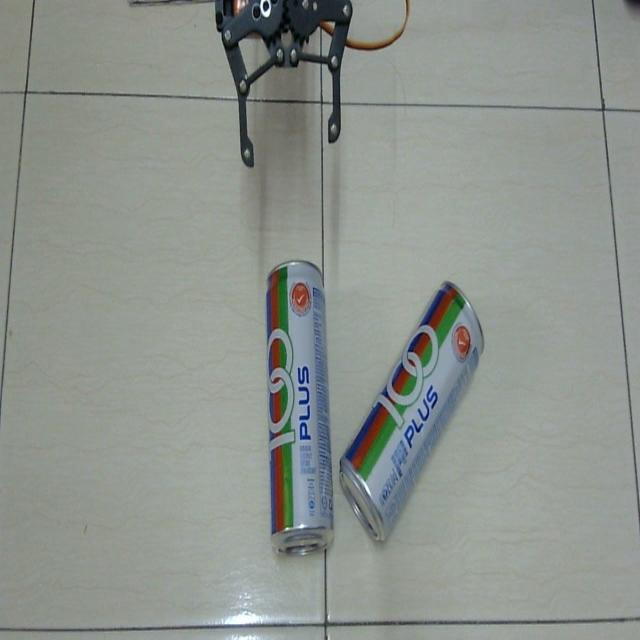Metal-laydown_0-rotation: (258, 256, 336, 568)
Metal-laydown_45right-rotation: (338, 272, 488, 554)
